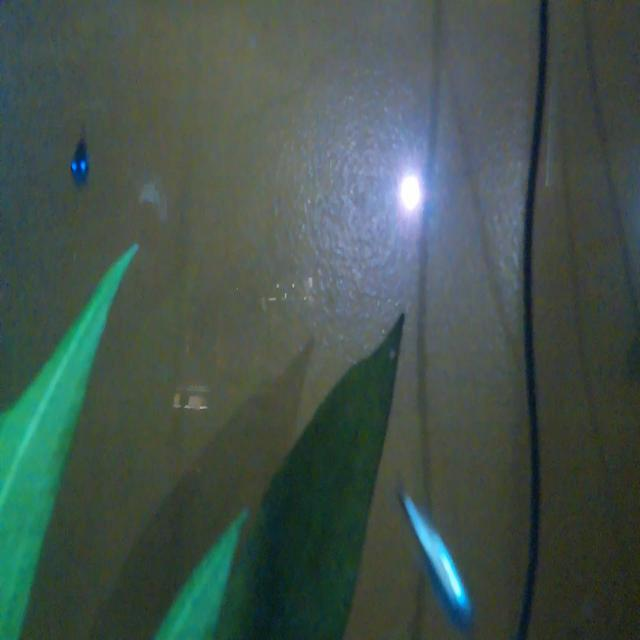fish: (387, 461, 486, 640), (50, 106, 107, 190)
